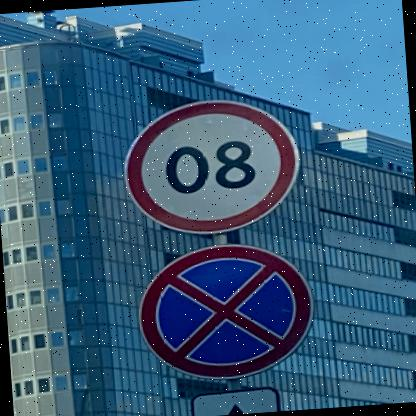speedlimit: (122, 93, 308, 239)
